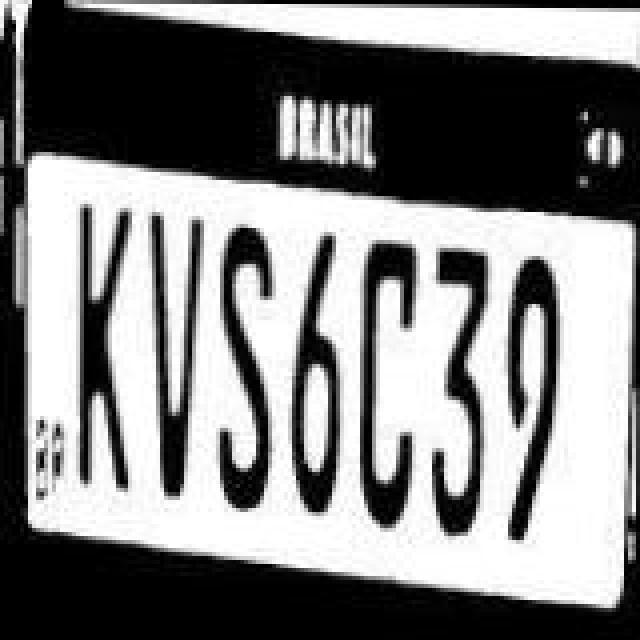3: (424, 228, 492, 544)
6: (282, 226, 354, 534)
9: (494, 230, 566, 542)
C: (354, 224, 418, 536)
K: (64, 200, 140, 508)
S: (206, 218, 278, 522)
V: (144, 204, 204, 520)
